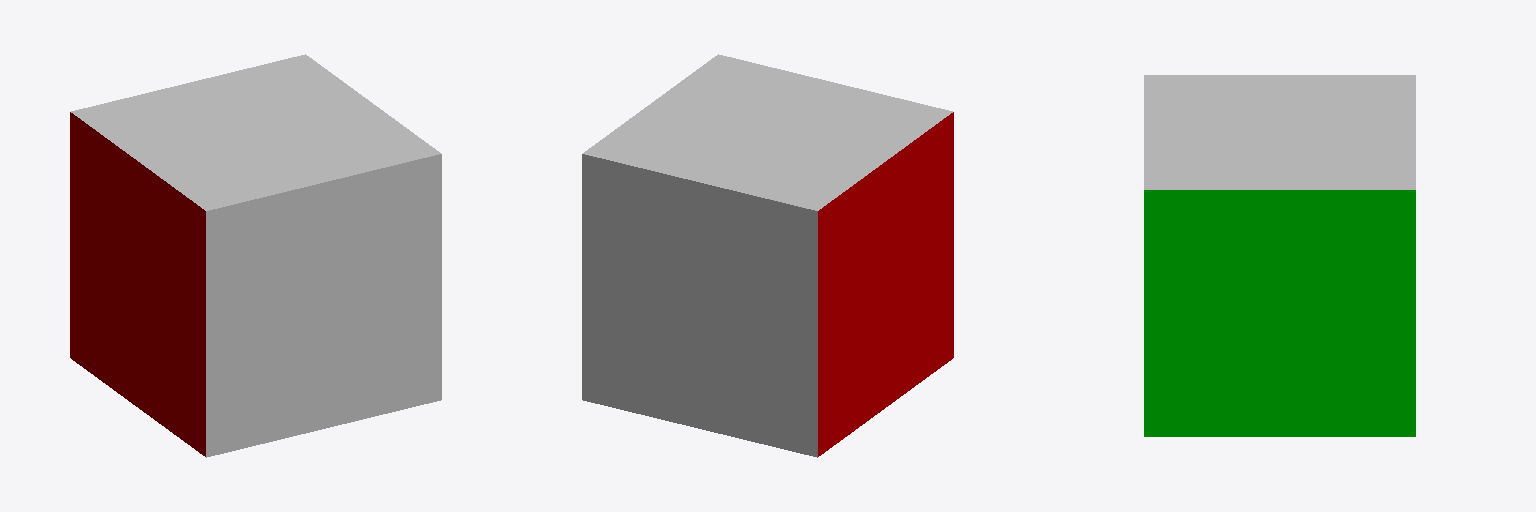
Rendered from cornell-box.obj.
3 views of the same model, side by side, from view 1: azimuth 30°, elevation 25°; view 2: azimuth 150°, elevation 25°; view 3: azimuth 270°, elevation 25° (orthographic).
Visible parts, largest first — view 1: Plane, Plane.003, Plane.004; view 2: Plane.002, Plane.003, Plane.004; view 3: Plane.005, Plane.004.
Part boxes in pixels (x1,y1,x2,y2): Plane: (206, 154, 441, 457); Plane.003: (70, 112, 205, 456); Plane.004: (71, 54, 440, 210); Plane.002: (582, 154, 817, 457); Plane.003: (818, 112, 953, 456); Plane.004: (583, 54, 952, 210); Plane.005: (1144, 190, 1415, 436); Plane.004: (1144, 75, 1415, 189).
Bounding box in the file's own units: 30 × 30 × 30.